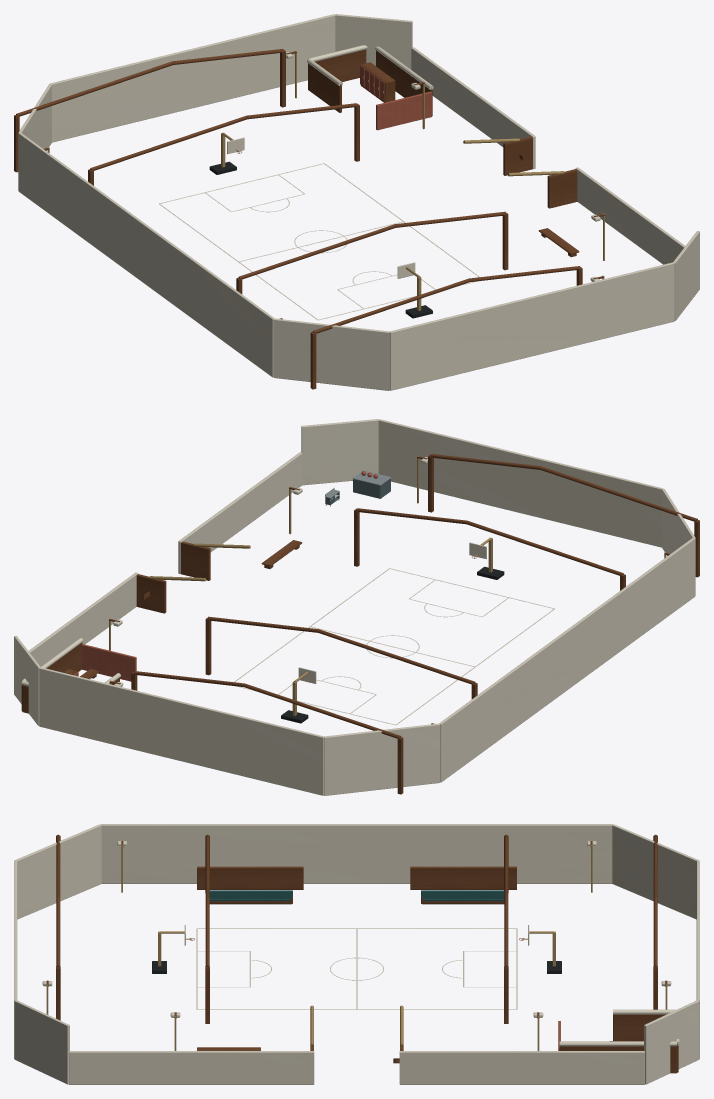
Rendered from SOL_D07_directory_01_remaining_batch.glb.
3 renders of one model, top to bottom at view 1: azimuth 30°, elevation 25°; view 2: azimuth 150°, elevation 25°; view 3: azimuth 270°, elevation 25°, orthographic.
Visible parts, largest first — view 1: D07_directory_01__outer_return_5, D07_directory_01__outer_return_3, D07_directory_01__outer_return_1, D07_directory_01__outer_return_4, D07_directory_01__mouth_aft, D07_directory_01__mouth_fore, D07_directory_01__outer_return_0, D07_directory_01__outer_return_6, D07_directory_01__change_screen, D07_directory_01__outer_return_2, D07_directory_01__entry_pier_4.2, D07_directory_01__changing_wall1 (+7 smaller); view 2: D07_directory_01__outer_return_1, D07_directory_01__outer_return_5, D07_directory_01__outer_return_3, D07_directory_01__outer_return_2, D07_directory_01__outer_return_6, D07_directory_01__mouth_fore, D07_directory_01__mouth_aft, D07_directory_01__outer_return_0, D07_directory_01__change_screen, D07_directory_01__outer_return_4, D07_directory_01__entry_pier_-4.2, D07_directory_01__entry_pier_4.2 (+5 smaller); view 3: D07_directory_01__outer_return_3, D07_directory_01__mouth_fore, D07_directory_01__mouth_aft, D07_directory_01__outer_return_2, D07_directory_01__outer_return_4, D07_directory_01__outer_return_6, D07_directory_01__outer_return_0, D07_directory_01__watch_return_-10, D07_directory_01__watch_return_10, D07_directory_01__changing_wall2, D07_directory_01__watch_bank_-10_back, D07_directory_01__watch_bank_10_back (+4 smaller).
Part boxes in pixels (bbox=[...]): D07_directory_01__outer_return_5: bbox=[389, 262, 674, 390]; D07_directory_01__outer_return_3: bbox=[18, 132, 274, 377]; D07_directory_01__outer_return_1: bbox=[50, 14, 335, 142]; D07_directory_01__outer_return_4: bbox=[273, 318, 389, 390]; D07_directory_01__mouth_aft: bbox=[411, 47, 535, 169]; D07_directory_01__mouth_fore: bbox=[575, 167, 684, 264]; D07_directory_01__outer_return_0: bbox=[335, 14, 412, 69]; D07_directory_01__outer_return_6: bbox=[673, 231, 699, 320]; D07_directory_01__change_screen: bbox=[376, 91, 431, 130]; D07_directory_01__outer_return_2: bbox=[18, 84, 51, 190]; D07_directory_01__entry_pier_4.2: bbox=[547, 169, 577, 208]; D07_directory_01__changing_wall1: bbox=[315, 49, 366, 81]; D07_directory_01__outer_return_1: bbox=[39, 667, 324, 795]; D07_directory_01__outer_return_5: bbox=[378, 419, 663, 547]; D07_directory_01__outer_return_3: bbox=[439, 537, 695, 782]; D07_directory_01__outer_return_2: bbox=[324, 723, 440, 795]; D07_directory_01__outer_return_6: bbox=[301, 419, 378, 485]; D07_directory_01__mouth_fore: bbox=[178, 452, 302, 574]; D07_directory_01__mouth_aft: bbox=[29, 572, 138, 666]; D07_directory_01__outer_return_0: bbox=[14, 636, 40, 725]; D07_directory_01__change_screen: bbox=[81, 644, 136, 681]; D07_directory_01__outer_return_4: bbox=[662, 489, 695, 595]; D07_directory_01__entry_pier_-4.2: bbox=[136, 574, 166, 613]; D07_directory_01__entry_pier_4.2: bbox=[181, 541, 210, 580]; D07_directory_01__outer_return_3: bbox=[101, 824, 612, 883]; D07_directory_01__mouth_fore: bbox=[69, 1051, 314, 1084]; D07_directory_01__mouth_aft: bbox=[399, 1051, 644, 1084]; D07_directory_01__outer_return_2: bbox=[612, 824, 698, 919]; D07_directory_01__outer_return_4: bbox=[15, 824, 101, 919]; D07_directory_01__outer_return_6: bbox=[14, 1000, 69, 1084]; D07_directory_01__outer_return_0: bbox=[644, 1000, 699, 1084]; D07_directory_01__watch_return_-10: bbox=[410, 866, 516, 889]; D07_directory_01__watch_return_10: bbox=[197, 866, 303, 889]; D07_directory_01__changing_wall2: bbox=[613, 1014, 665, 1041]; D07_directory_01__watch_bank_-10_back: bbox=[421, 890, 504, 901]; D07_directory_01__watch_bank_10_back: bbox=[209, 890, 292, 901].
Size of the model in its own units: 44.86 by 7.48 by 64.3.
Materials: 13 (13 with a texture image).
